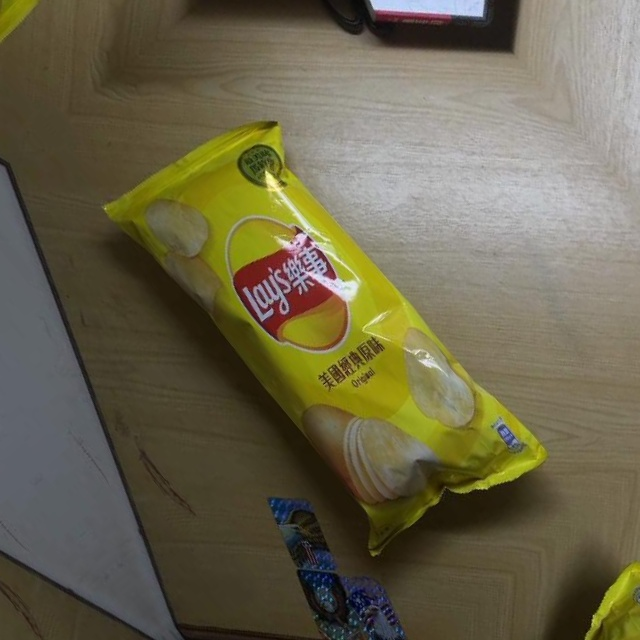Lay-s-original: (86, 84, 553, 585)
